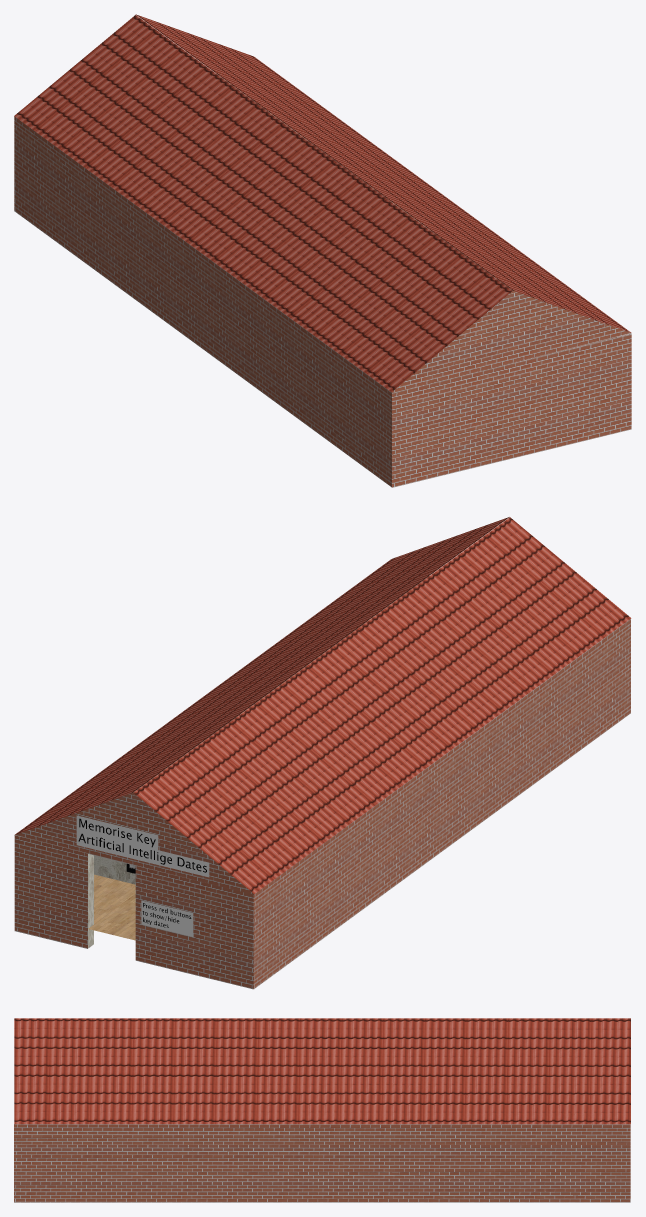
File: walls_107.gltf
3 renders of one model, top to bottom at view 1: azimuth 30°, elevation 25°; view 2: azimuth 150°, elevation 25°; view 3: azimuth 270°, elevation 25°, orthographic. The views are drawn at different scales.
Parts seen in each view (by area): view 1: typeMesh49; view 2: typeMesh49; view 3: typeMesh49.
Boxes of the visible parts, x1,y1,x2,y2 form: typeMesh49: (14, 14, 631, 487); typeMesh49: (14, 517, 631, 989); typeMesh49: (14, 1018, 630, 1202).
Size of the model in its own units: 15.98 by 10.82 by 43.48.
20 materials, 16 textured.
